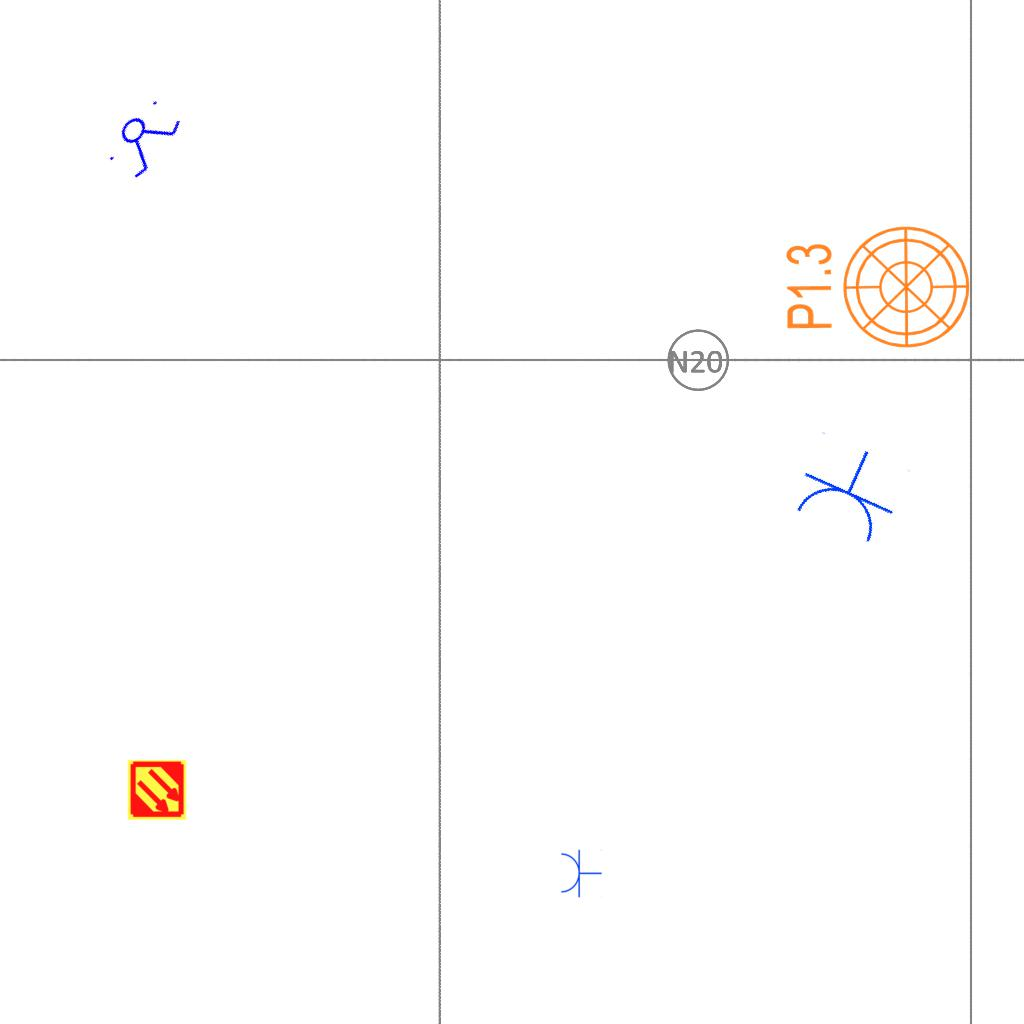ASR_Ansaugrauchmelder: (126, 759, 188, 821)
Aufbaurundleuchte_LED_Treppenhaus: (768, 212, 973, 351)
Schukosteckdose_einfach: (785, 430, 913, 551), (559, 848, 602, 898)
Serienschalter: (99, 90, 189, 186)
